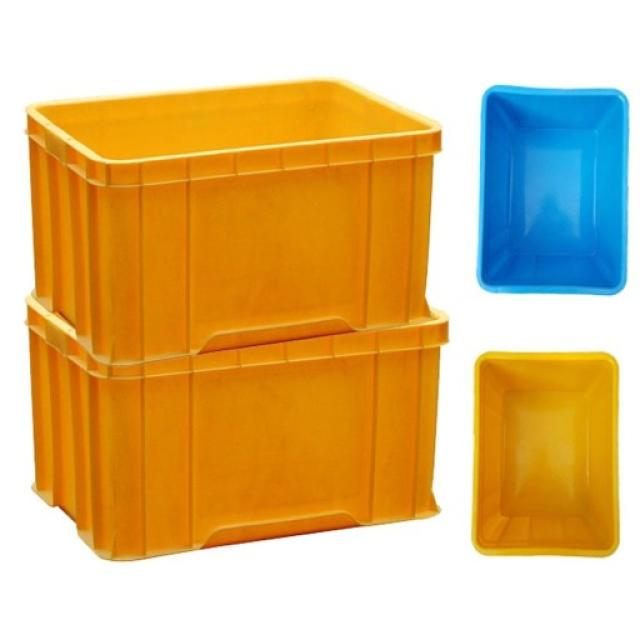basket: (16, 76, 460, 565), (481, 87, 631, 294), (476, 354, 621, 557)
